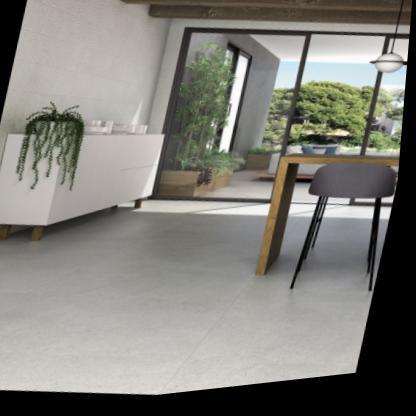Ceramic floor: (0, 207, 378, 399)
Window: (150, 7, 413, 237)
